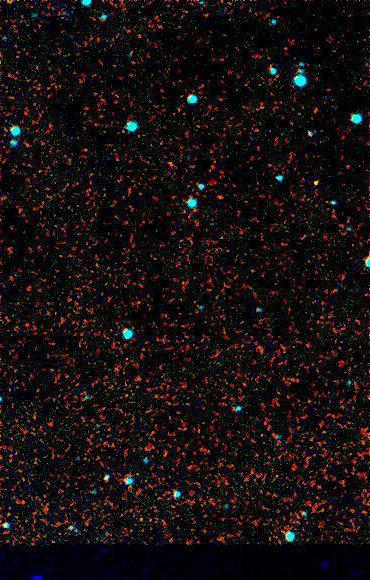star: (302, 169, 332, 199)
